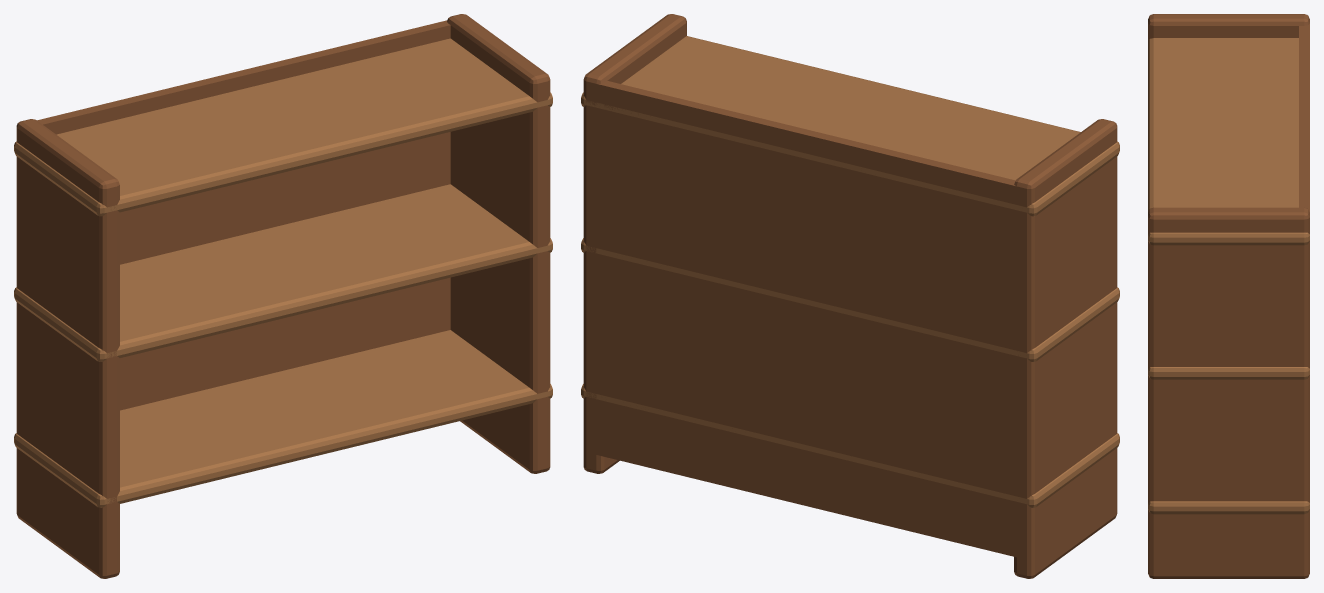
Rendered from ke-trung.glb.
3 views of the same model, side by side, from view 1: azimuth 30°, elevation 25°; view 2: azimuth 150°, elevation 25°; view 3: azimuth 270°, elevation 25° (orthographic). The views are drawn at different scales.
Visible parts, largest first — view 1: ke-trung-5, ke-trung-2, ke-trung-3, ke-trung-1, ke-trung-0, ke-trung-4; view 2: ke-trung-5, ke-trung-3, ke-trung-2, ke-trung-4, ke-trung-0, ke-trung-1; view 3: ke-trung-4, ke-trung-2, ke-trung-3, ke-trung-0, ke-trung-1, ke-trung-5.
Part boxes in pixels (x1,y1,x2,y2): ke-trung-5: [37, 20, 450, 410]; ke-trung-2: [14, 38, 552, 216]; ke-trung-3: [16, 119, 119, 578]; ke-trung-1: [14, 184, 552, 361]; ke-trung-0: [14, 330, 552, 507]; ke-trung-4: [447, 14, 550, 473]; ke-trung-5: [592, 81, 1021, 557]; ke-trung-3: [1014, 119, 1117, 578]; ke-trung-2: [581, 36, 1119, 216]; ke-trung-4: [583, 14, 686, 473]; ke-trung-0: [581, 384, 1119, 507]; ke-trung-1: [581, 238, 1119, 361]; ke-trung-4: [1148, 207, 1309, 578]; ke-trung-2: [1148, 38, 1309, 245]; ke-trung-3: [1148, 14, 1309, 40]; ke-trung-0: [1148, 501, 1309, 514]; ke-trung-1: [1148, 367, 1309, 379]; ke-trung-5: [1299, 24, 1309, 212].
Bounding box in the file's own units: 1.8 × 1.5 × 0.6.
